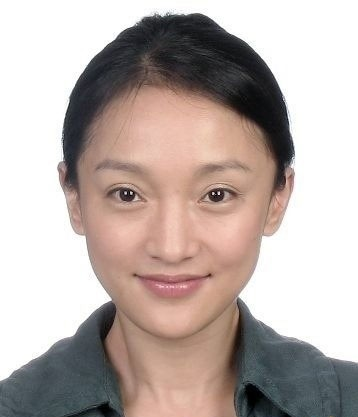unmask: (85, 114, 267, 314)
